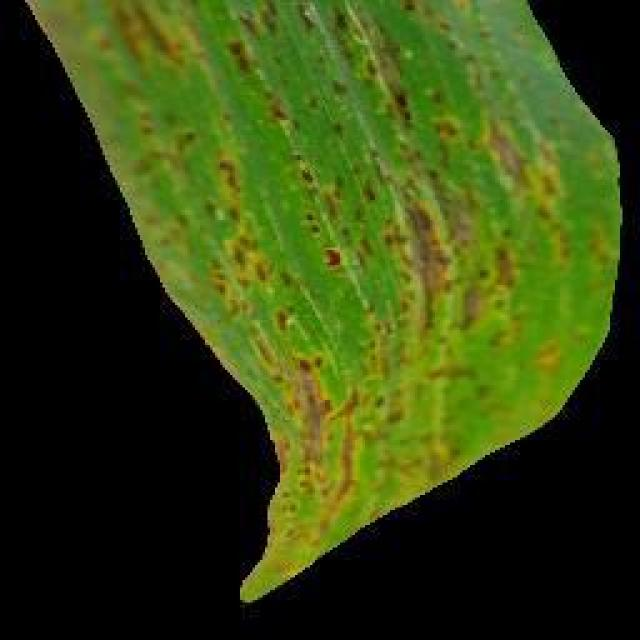Corn Common Rust: (220, 55, 387, 460)
